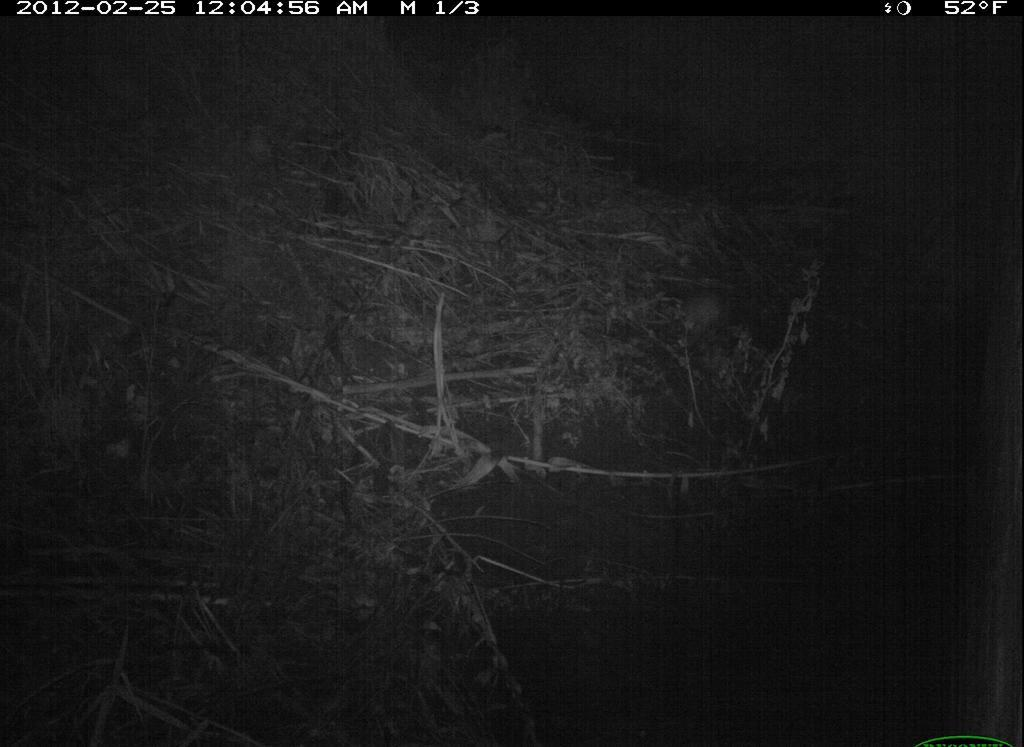opossum: (669, 281, 736, 350)
